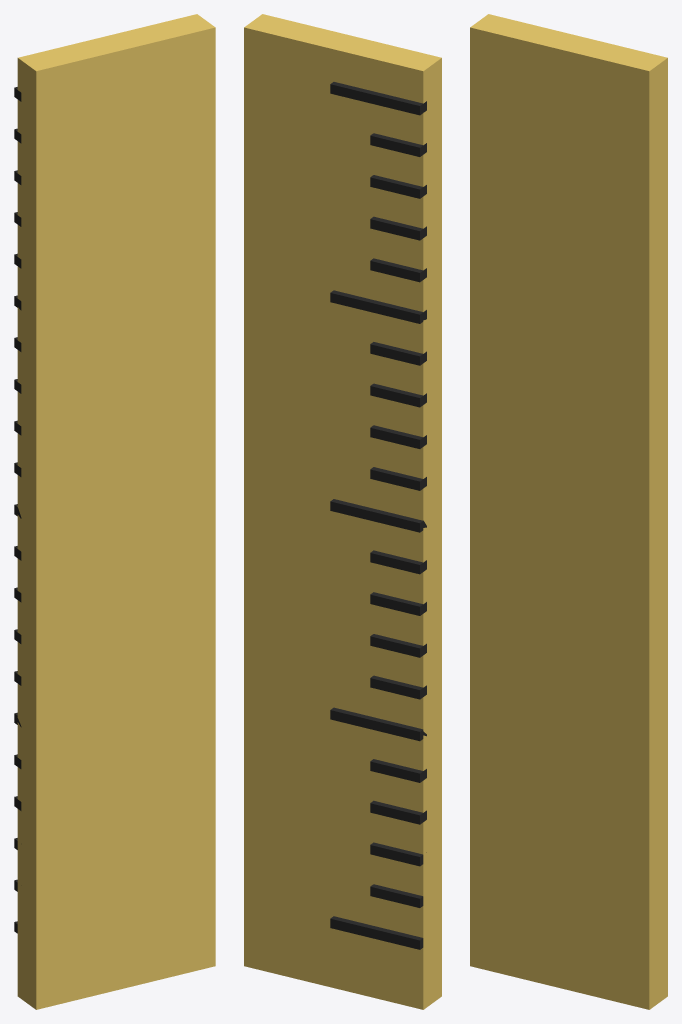
The model's file is ruler.glb.
3 views of the same model, side by side, from view 1: azimuth 30°, elevation 25°; view 2: azimuth 150°, elevation 25°; view 3: azimuth 330°, elevation 25° (orthographic).
Parts seen in each view (by area): view 1: ruler; view 2: ruler; view 3: ruler.
Boxes of the visible parts, bbox=[...] form: ruler: bbox=[14, 14, 215, 1009]; ruler: bbox=[244, 14, 441, 1009]; ruler: bbox=[470, 14, 667, 1009].
Size of the model in its own units: 0.018 by 0.09 by 0.0038.
